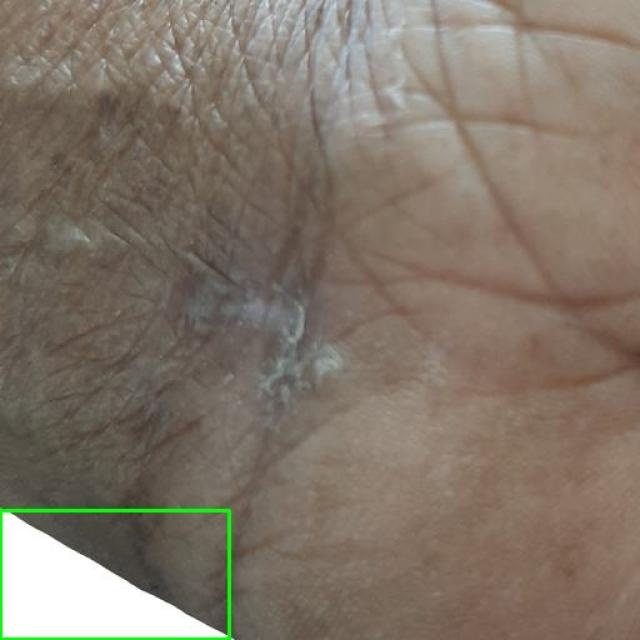Scabies: (0, 510, 229, 639)
